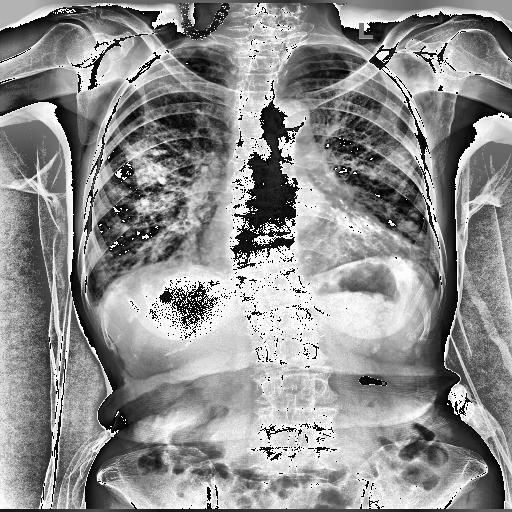0- Aortic enlargement: (266, 97, 318, 144), (261, 100, 313, 144), (271, 98, 309, 123)
10- Pleural effusion: (83, 290, 107, 314), (78, 296, 108, 312)
11- Pleural thickening: (304, 41, 354, 58), (168, 43, 228, 55), (83, 290, 107, 314), (78, 296, 108, 312), (301, 40, 352, 48)
13- Pulmonary fibrosis: (342, 100, 443, 274), (104, 131, 222, 278)
3- Cardiomegaly: (202, 220, 407, 284), (194, 210, 384, 274), (196, 241, 414, 272)
5- ILD: (82, 110, 222, 292), (96, 58, 194, 280), (305, 114, 438, 264), (316, 72, 426, 240), (342, 100, 443, 274), (104, 131, 222, 278)
6- Infiltration: (82, 110, 222, 292), (96, 58, 194, 280), (305, 114, 438, 264), (316, 72, 426, 240)
9- Other lesion: (342, 100, 443, 274), (104, 131, 222, 278)
